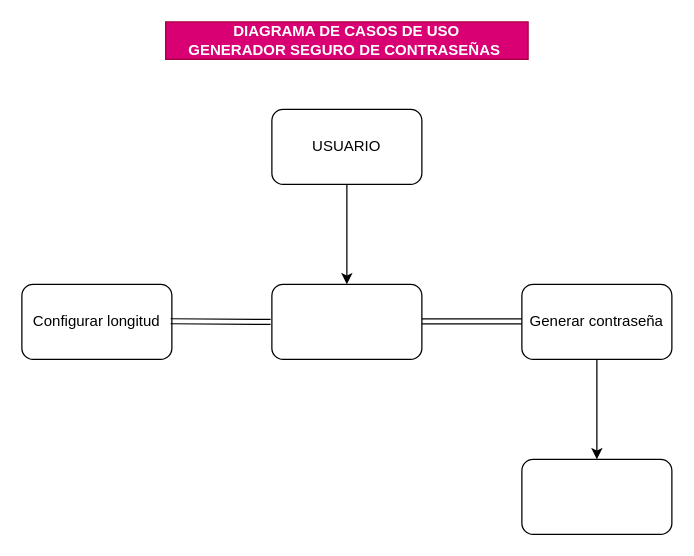
Image size: 694x556. Some labels were removed from this diagram. The centre of each missing label's shape, as x and y in pixels:
"Seleccionar opciones" goes at pixel 346 321.
"Visualizar contraseña" goes at pixel 596 496.
